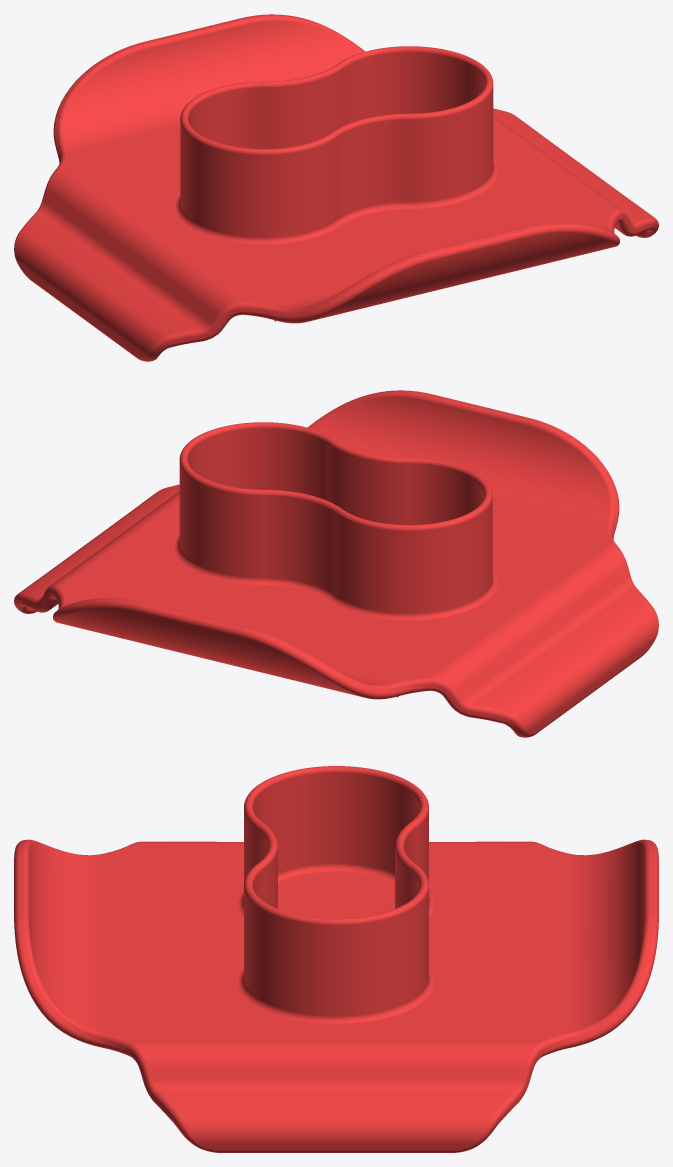
The model's file is kool-mandoline-handguard.glb.
3 renders of one model, top to bottom at view 1: azimuth 30°, elevation 25°; view 2: azimuth 150°, elevation 25°; view 3: azimuth 270°, elevation 25°, orthographic. The views are drawn at different scales.
Visible parts, largest first — view 1: hand_guard; view 2: hand_guard; view 3: hand_guard.
Part boxes in pixels (x1=…): hand_guard: x1=14, y1=14, x2=658, y2=361; hand_guard: x1=14, y1=390, x2=658, y2=737; hand_guard: x1=14, y1=766, x2=658, y2=1152.
Size of the model in its own units: 0.1055 by 0.0318 by 0.1044.
